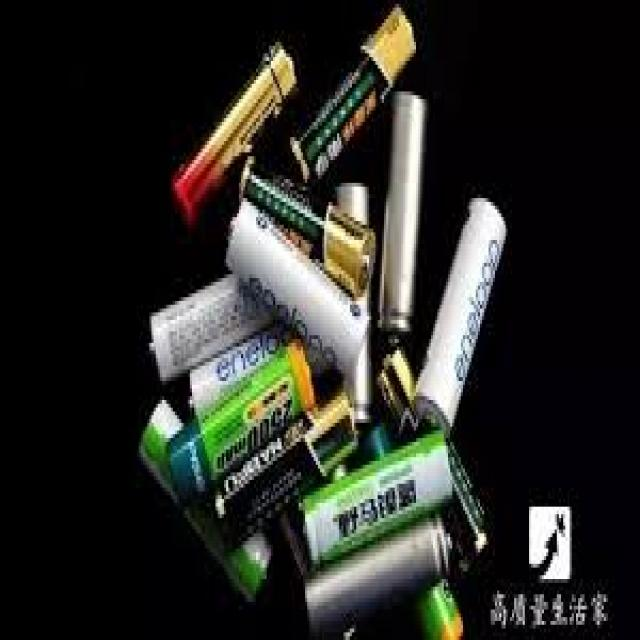non-organic waste: (165, 334, 316, 512), (298, 414, 454, 579), (287, 0, 419, 191), (173, 39, 294, 232), (412, 189, 507, 434), (303, 510, 455, 628)
